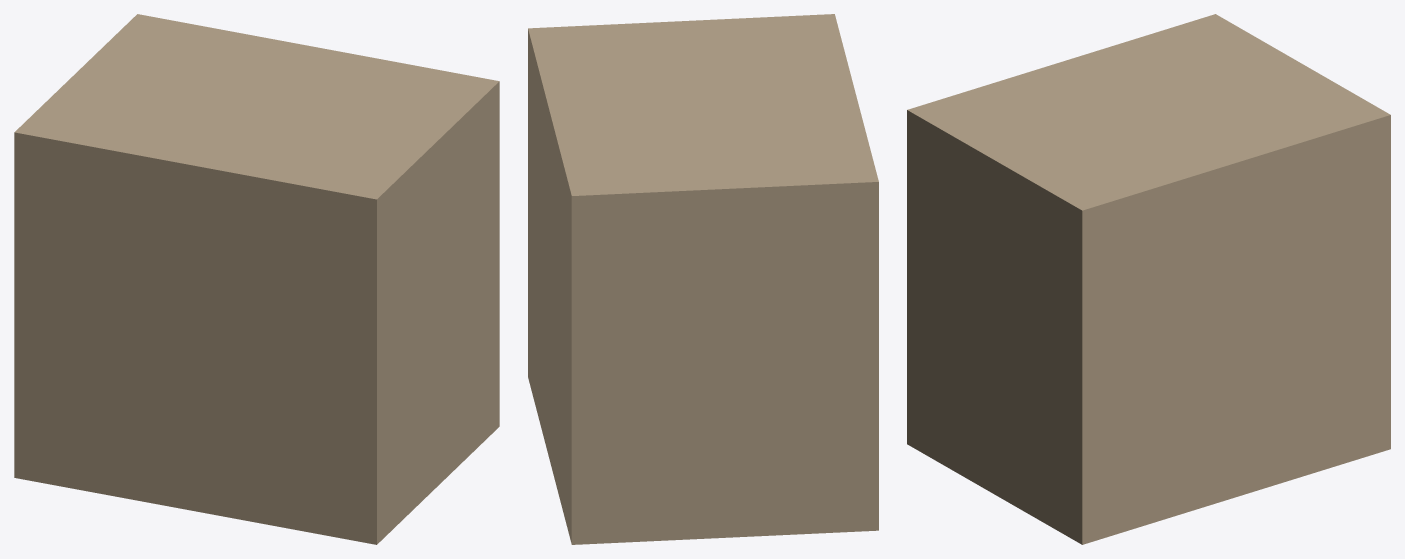
Rendered from bld_106297738.dae.
3 renders of one model, left to right at view 1: azimuth 30°, elevation 25°; view 2: azimuth 150°, elevation 25°; view 3: azimuth 270°, elevation 25°, orthographic. The views are drawn at different scales.
Visible parts, largest first — view 1: bld_106297738; view 2: bld_106297738; view 3: bld_106297738.
Boxes of the visible parts, x1,y1,x2,y2 form: bld_106297738: (14, 14, 499, 544); bld_106297738: (528, 14, 878, 544); bld_106297738: (907, 14, 1390, 544).
Bounding box in the file's own units: 10.09 × 10.49 × 8.
